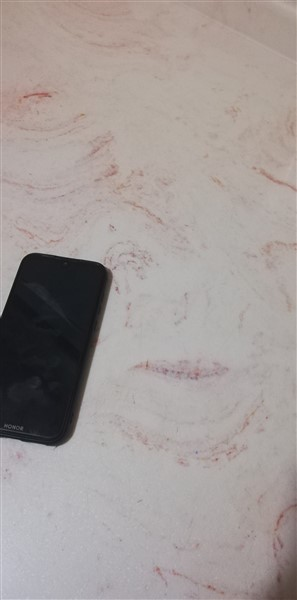telefon: (1, 249, 116, 454)
